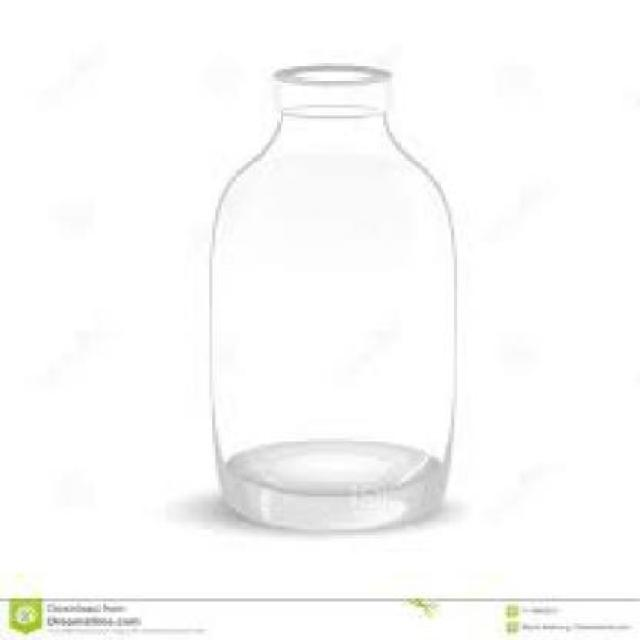kaca: (209, 65, 454, 528)
